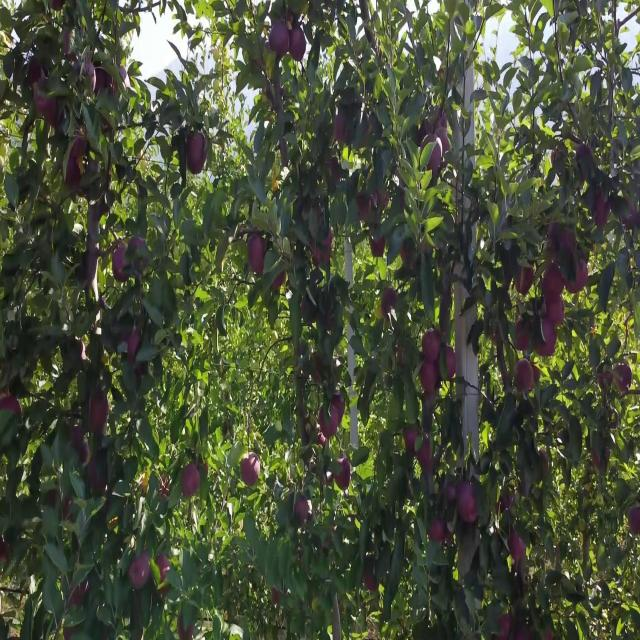apple: (564, 255, 588, 297), (88, 391, 111, 434), (124, 327, 143, 377), (312, 227, 334, 268), (128, 554, 152, 590), (188, 135, 208, 178), (460, 483, 480, 526), (288, 14, 308, 57), (120, 327, 142, 366), (536, 319, 557, 359), (36, 92, 59, 128), (268, 21, 288, 62), (248, 234, 267, 276), (552, 227, 578, 256), (544, 263, 564, 300), (592, 191, 612, 228), (420, 362, 440, 396), (240, 455, 260, 487), (96, 71, 119, 98), (508, 533, 528, 564), (428, 127, 450, 155), (620, 199, 640, 229), (68, 156, 83, 196), (28, 56, 47, 87), (184, 462, 200, 498), (292, 28, 308, 64), (112, 248, 128, 284), (0, 391, 23, 416), (416, 440, 433, 473), (616, 362, 632, 396), (425, 149, 445, 176), (516, 362, 533, 393), (356, 191, 373, 222), (516, 319, 531, 354), (68, 583, 89, 608), (516, 270, 535, 297), (424, 334, 441, 363), (548, 298, 565, 327), (320, 412, 338, 439), (284, 7, 302, 34), (160, 554, 172, 594), (592, 447, 612, 471), (336, 462, 352, 491), (404, 426, 420, 455), (72, 135, 89, 162), (444, 348, 457, 382), (84, 63, 98, 94), (296, 497, 312, 524), (328, 156, 342, 185), (336, 113, 349, 144), (628, 504, 640, 537), (500, 490, 516, 514), (592, 447, 608, 471), (284, 7, 299, 32), (64, 28, 75, 62), (272, 270, 288, 293), (372, 234, 387, 258), (496, 618, 513, 639), (432, 519, 446, 544), (364, 568, 378, 592), (600, 369, 614, 393), (540, 447, 551, 476), (312, 355, 323, 384), (180, 618, 195, 639), (376, 191, 391, 212), (384, 291, 398, 313), (332, 398, 345, 421), (0, 540, 11, 564), (400, 248, 415, 265), (64, 497, 73, 524), (608, 412, 620, 432), (132, 234, 146, 251), (448, 483, 458, 505), (80, 341, 89, 364), (316, 433, 327, 448), (376, 305, 385, 320), (272, 177, 280, 192), (328, 476, 334, 487), (400, 348, 404, 364), (204, 462, 208, 476), (548, 625, 552, 639)
